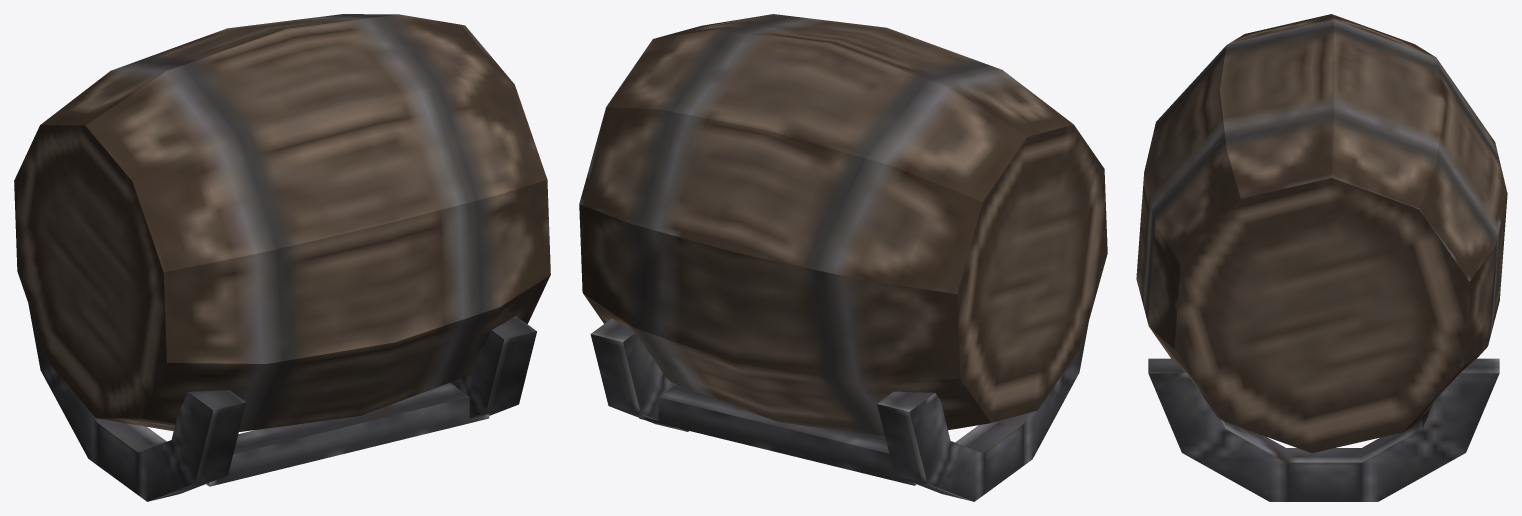
File: beer.fbx
The picture shows the model from 3 angles, left to right: view 1: azimuth 30°, elevation 25°; view 2: azimuth 150°, elevation 25°; view 3: azimuth 270°, elevation 25°; orthographic projection. The views are drawn at different scales.
Visible parts, largest first — view 1: pCylinder3, pCube56; view 2: pCylinder3, pCube56; view 3: pCylinder3, pCube56.
Part boxes in pixels (bbox=[...]): pCylinder3: bbox=[14, 14, 550, 431]; pCube56: bbox=[28, 304, 536, 501]; pCylinder3: bbox=[579, 14, 1107, 435]; pCube56: bbox=[590, 318, 1088, 501]; pCylinder3: bbox=[1136, 14, 1507, 453]; pCube56: bbox=[1148, 358, 1499, 501].
Size of the model in its own units: 435 by 442 by 400.
